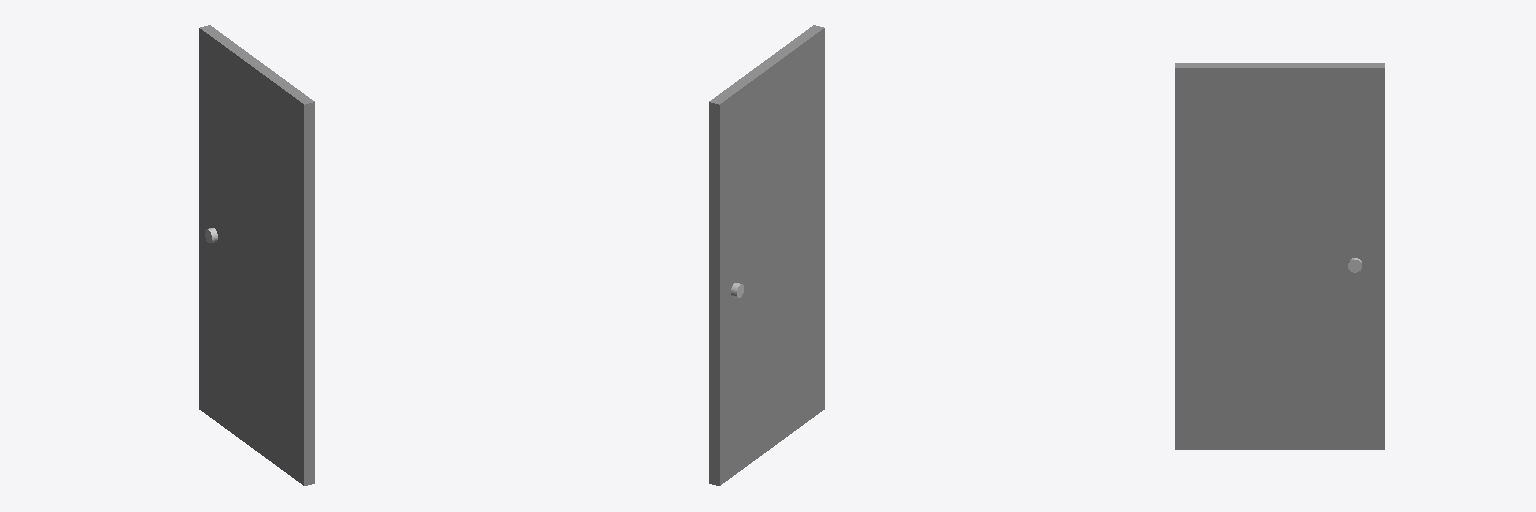
The model's file is door.obj.
3 renders of one model, left to right at view 1: azimuth 30°, elevation 25°; view 2: azimuth 150°, elevation 25°; view 3: azimuth 270°, elevation 25°, orthographic.
Visible parts, largest first — view 1: Cube; view 2: Cube; view 3: Cube.
Part boxes in pixels (x1,y1,x2,y2): Cube: (199, 25, 314, 485); Cube: (709, 25, 824, 485); Cube: (1175, 63, 1384, 449).
Size of the model in its own units: 0.22 by 4 by 2.